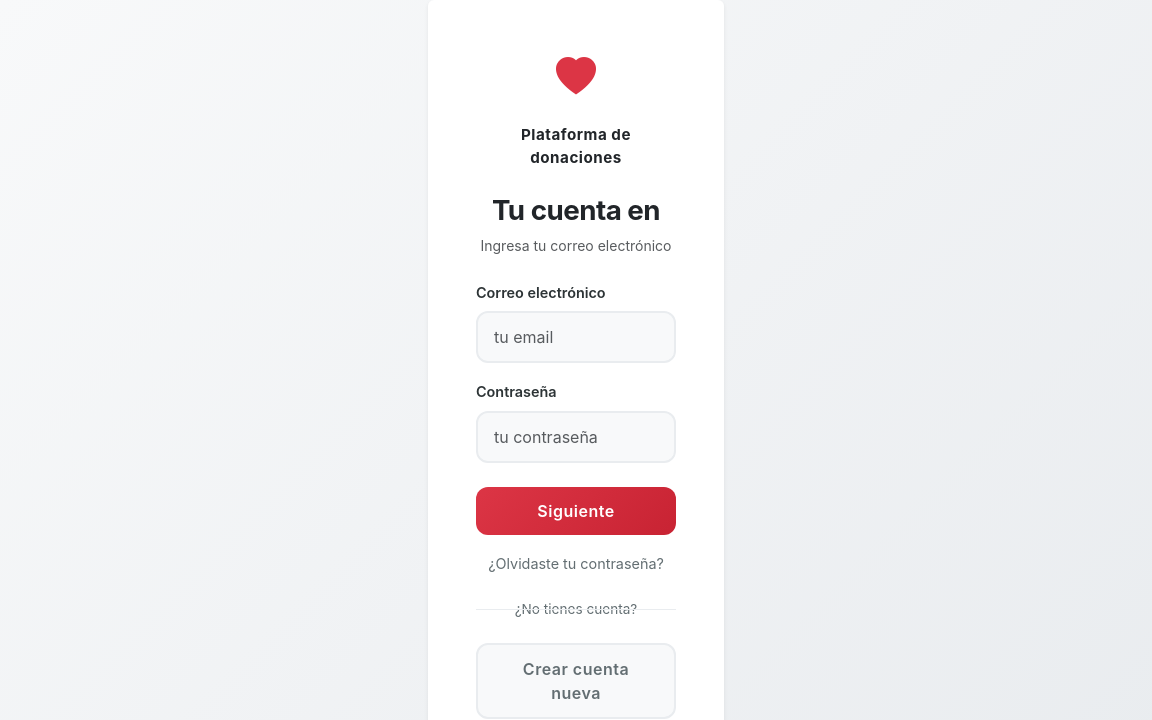
Test: LoginPage › shows error message on login failure
In the field labelled "Correo electrónico": [576, 338] box [476, 312, 676, 364], type "test@example.com"
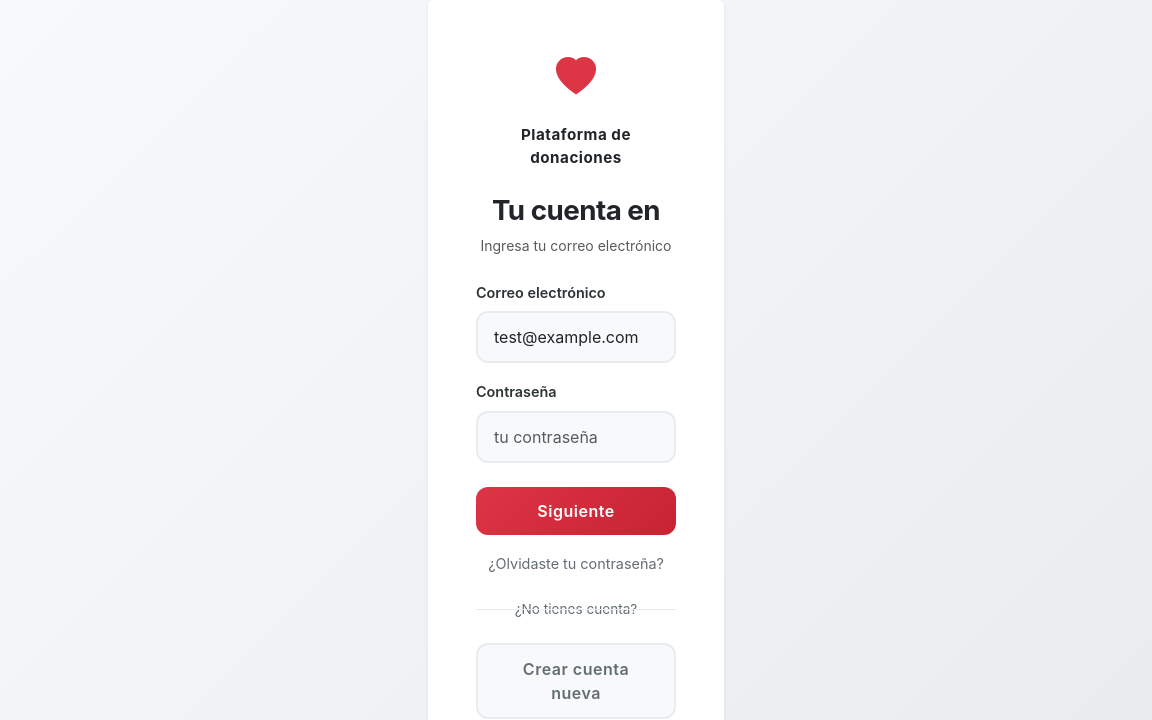
In the password field labelled "Contraseña": [576, 437] box [476, 411, 676, 463], type "password123"
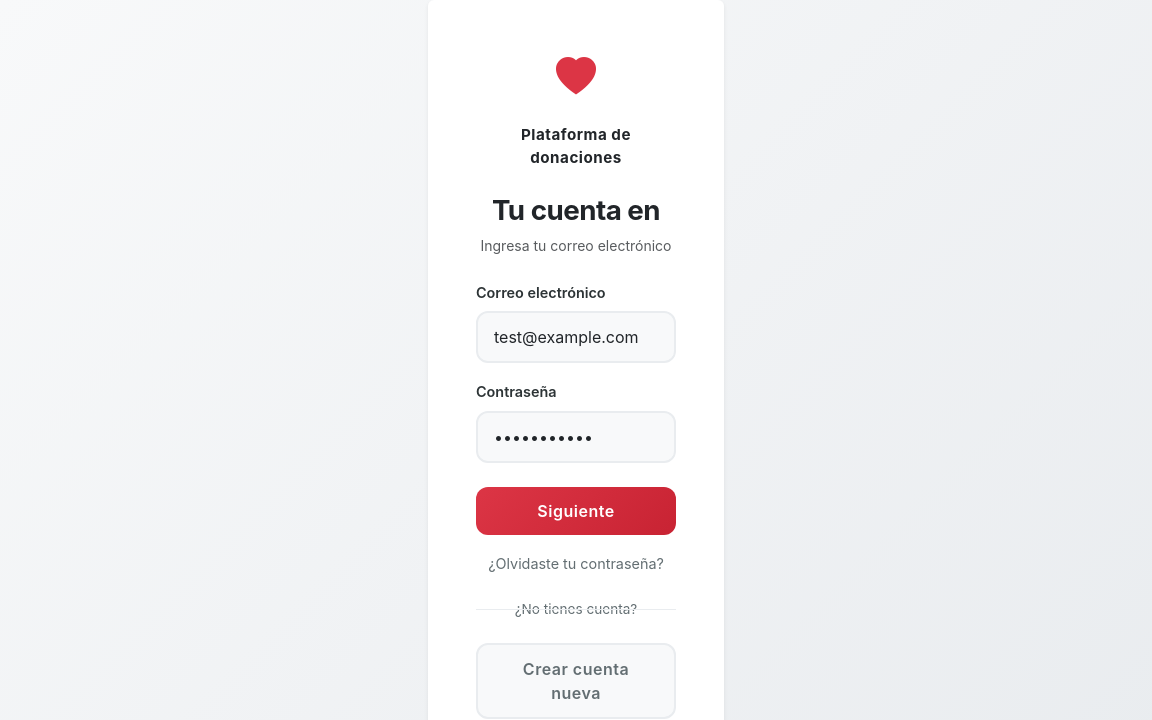
Click the button "Siguiente": [576, 511] box [476, 487, 676, 535]
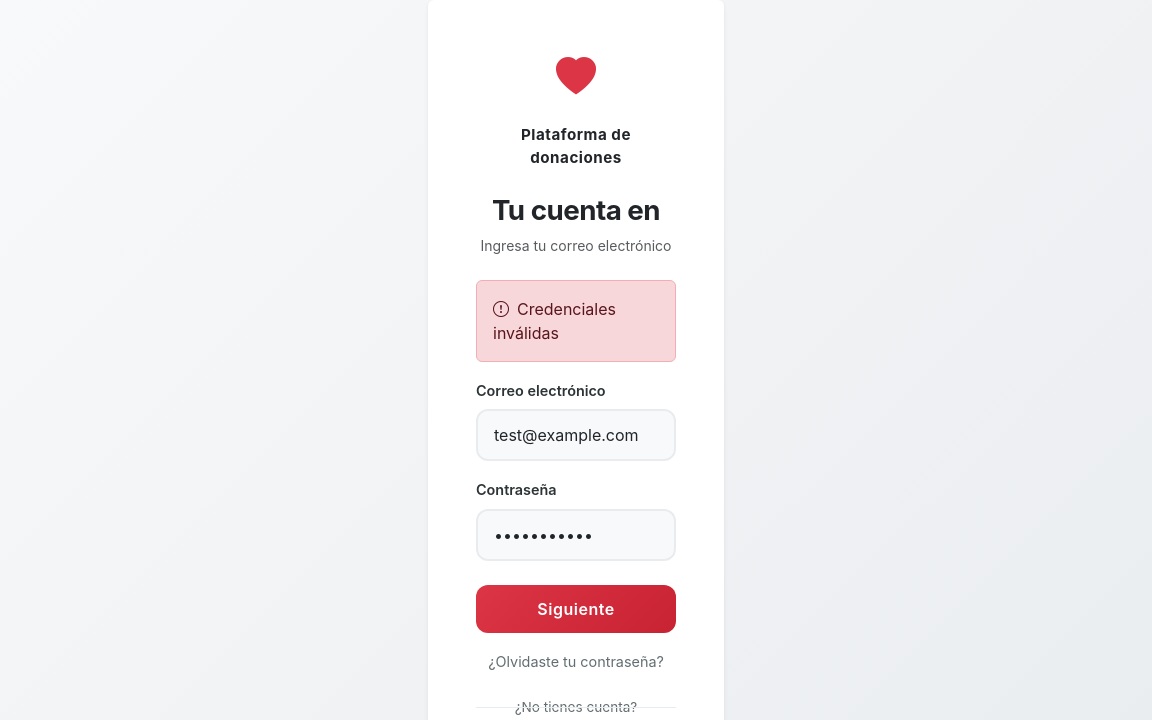
Check: the text "Credenciales inválidas" is shown, box [476, 280, 676, 362]
